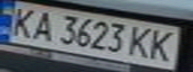2: (90, 18, 112, 52)
3: (106, 20, 130, 56), (54, 12, 78, 46)
6: (72, 16, 96, 50)
A: (24, 9, 60, 43)
K: (145, 27, 184, 63), (3, 4, 42, 38), (124, 24, 160, 60)
